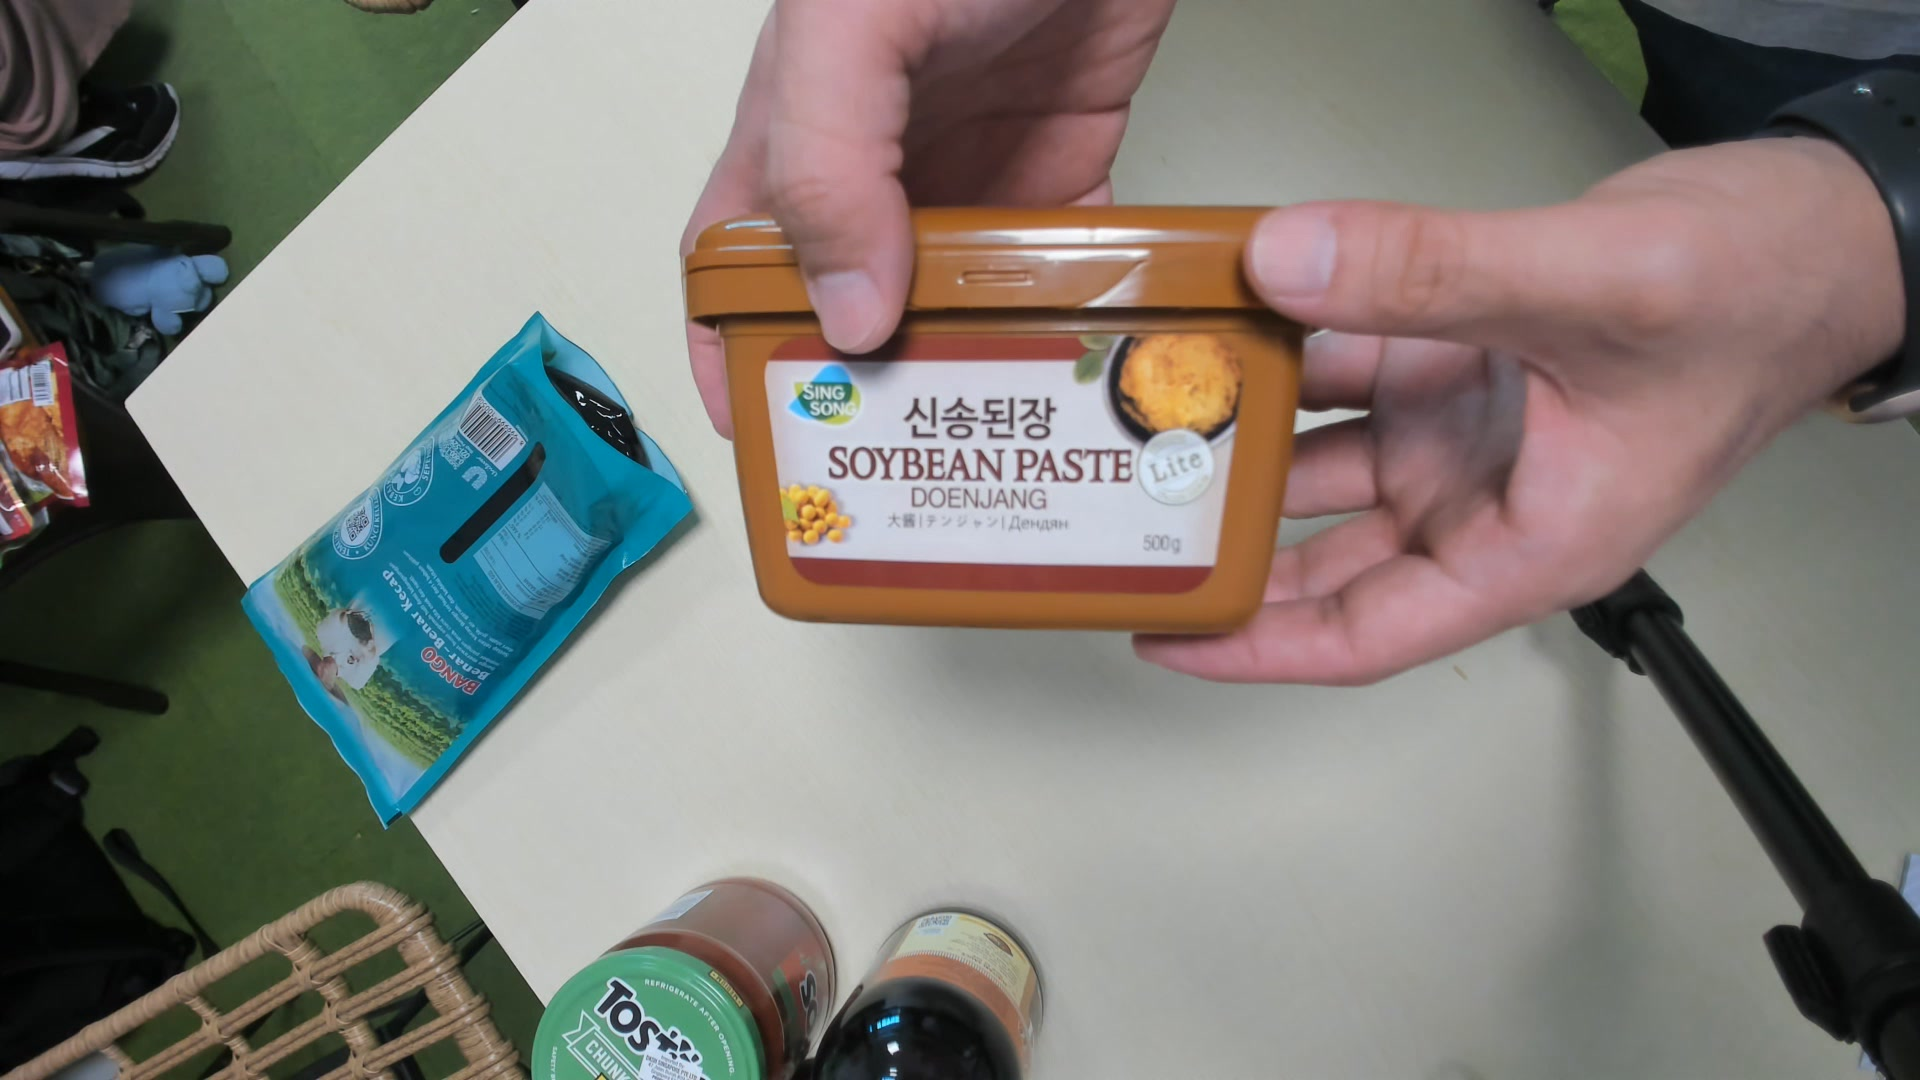OtherSauceDressing_500-599g_NonHalal_NonHealthy: (694, 196, 1315, 641)
